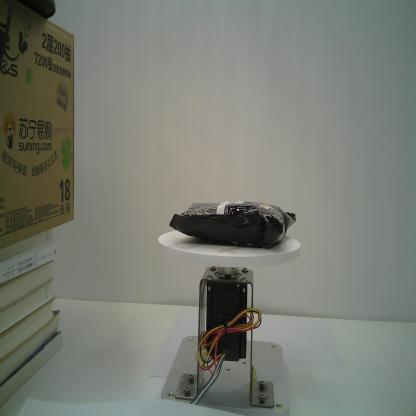Instant Noodles: (167, 200, 297, 249)
